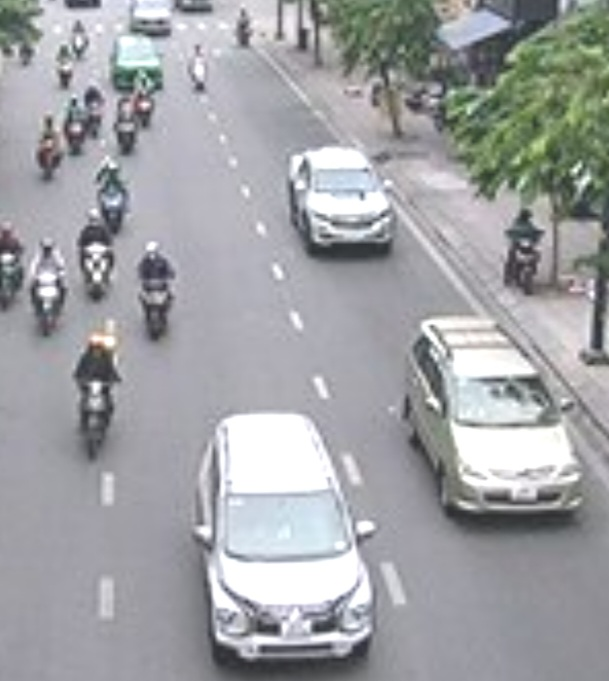car: (197, 414, 376, 664), (403, 317, 584, 517), (288, 149, 397, 248)
